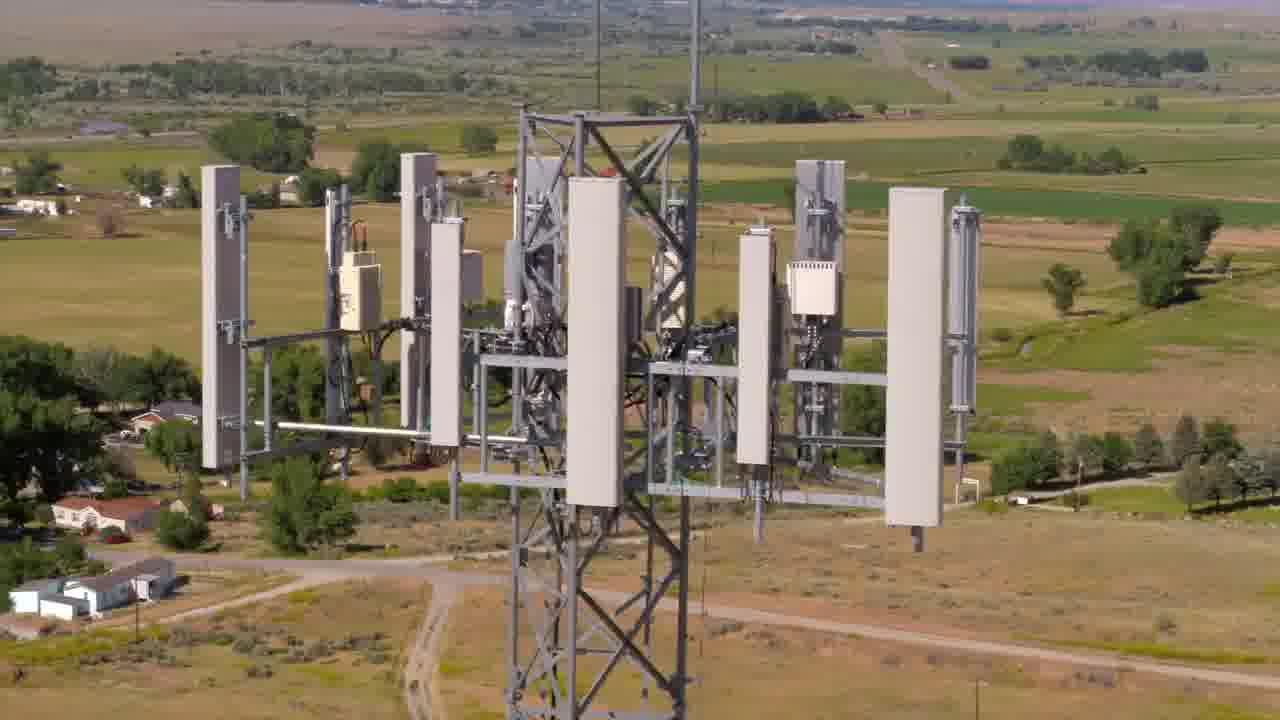antenna: (878, 177, 966, 534), (572, 160, 646, 532), (789, 151, 855, 458), (195, 169, 250, 491), (375, 158, 427, 438), (434, 217, 485, 469), (734, 233, 787, 470)
